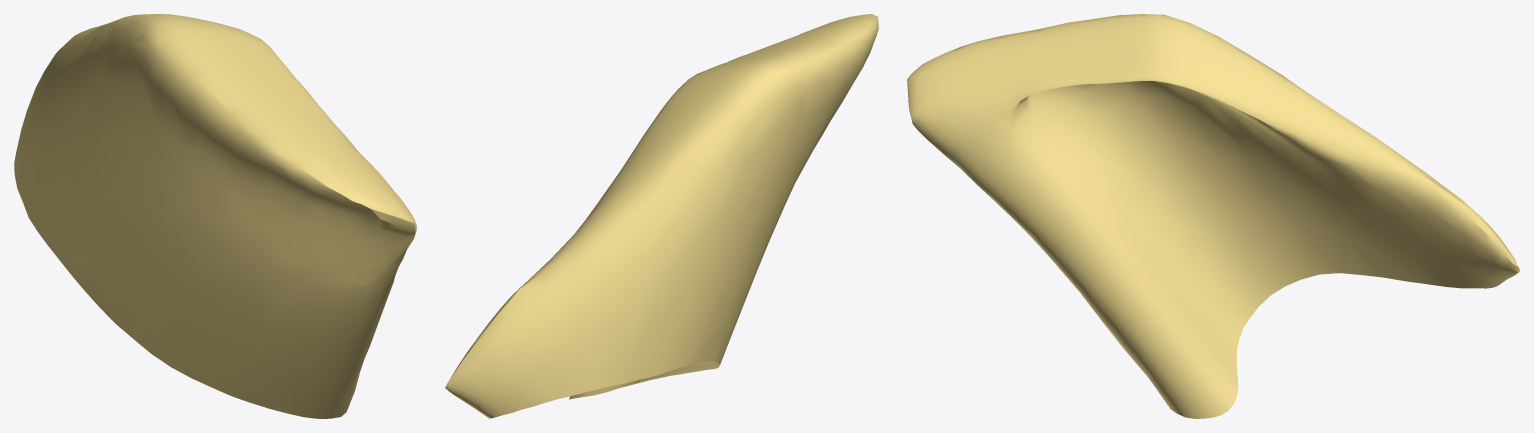
Rendered from fma77688-l_mm2975.glb.
3 renders of one model, left to right at view 1: azimuth 30°, elevation 25°; view 2: azimuth 150°, elevation 25°; view 3: azimuth 270°, elevation 25°, orthographic. The views are drawn at different scales.
Parts seen in each view (by area): view 1: FMA77688-L_MM2975; view 2: FMA77688-L_MM2975; view 3: FMA77688-L_MM2975.
Part boxes in pixels (x1,y1,x2,y2): FMA77688-L_MM2975: [14, 14, 416, 418]; FMA77688-L_MM2975: [445, 14, 878, 418]; FMA77688-L_MM2975: [907, 14, 1519, 418].
Size of the model in its own units: 0.00198 by 0.00348 by 0.00589.
